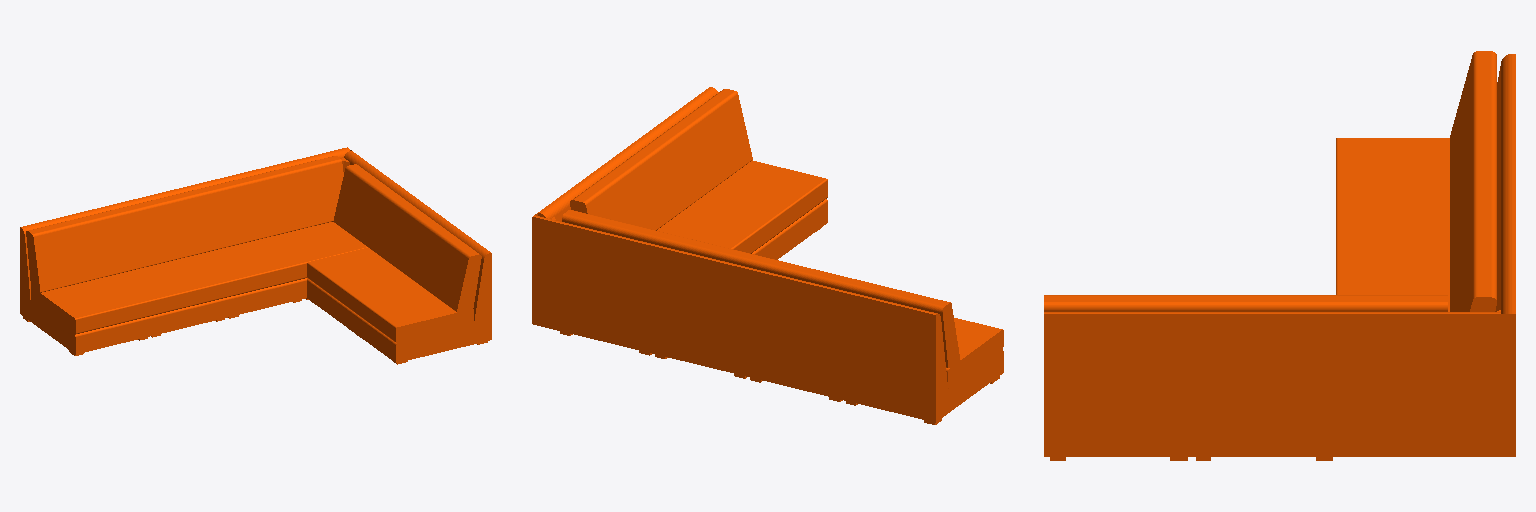
The robot description file, URDF, robot "Sectional_d8de84e7c0f8cbb19473aab1da686220":
<?xml version="1.0" ?>
<robot name="Sectional_d8de84e7c0f8cbb19473aab1da686220">
   <material name="obj_color">
      <color rgba="1.0 0.423529411765 0.0392156862745 1.0"/>
   </material>
   <link name="top">
      <inertial>
         <origin rpy="0.0118640140658816 0.02863657405941492 0.03676484304108316" xyz="-0.01288237876676118 -0.01645439042156386 -0.008031859566292331"/>
         <mass value="3.766885220948229"/>
         <inertia ixx="0.01498913541283348" ixy="0.006534629332822864" ixz="-0.0004536031005986858" iyy="0.02554368742440912" iyz="-0.0003232278985350678" izz="0.03673260832913709"/>
      </inertial>
      <visual>
         <origin rpy="0 0 0" xyz="0 0 0"/>
         <geometry>
            <mesh filename="top_watertight_tiny.stl" scale="1 1 1"/>
         </geometry>
         <material name="obj_color"/>
      </visual>
      <collision>
         <origin rpy="0 0 0" xyz="0 0 0"/>
         <geometry>
            <mesh filename="top_watertight_tiny.obj" scale="1 1 1"/>
         </geometry>
      </collision>
   </link>
   <link name="bottom">
      <inertial>
         <origin rpy="1.633333333199431e-08 1.633333333199431e-08 1.633333333362855e-08" xyz="0.3464080000000008 0.3464080000000008 0.3464080000000008"/>
         <mass value="0.0009800000000000017"/>
         <inertia ixx="1.633333333253906e-08" ixy="5.447480642029219e-19" ixz="5.447480642029219e-19" iyy="1.633333333253906e-08" iyz="5.447480642029219e-19" izz="1.633333333253906e-08"/>
      </inertial>
      <visual>
         <origin rpy="0 0 0" xyz="0 0 0"/>
         <geometry>
            <mesh filename="bottom_watertight_tiny.stl" scale="1 1 1"/>
         </geometry>
         <material name="obj_color"/>
      </visual>
   </link>
   <link name="world"/>
   <joint name="world_to_base" type="fixed">
      <origin xyz="0 0 0"/>
      <axis xyz="0 0 0"/>
      <parent link="world"/>
      <child link="bottom"/>
   </joint>
   <joint name="rotation" type="revolute">
      <origin xyz="0 0 0"/>
      <axis xyz="0 0 -1"/>
      <parent link="bottom"/>
      <child link="top"/>
      <dynamics damping="1.0" friction="1.0"/>
      <limit effort="0.1" velocity="0.1" lower="0" upper="0.001"/>
   </joint>
</robot>

--- What the picture shows (computed from the rendered views, not written in the file) ---
3 views of the same robot in one strip: view 1: azimuth 30°, elevation 25°; view 2: azimuth 150°, elevation 25°; view 3: azimuth 270°, elevation 25° (orthographic).
Robot: Sectional_d8de84e7c0f8cbb19473aab1da686220 — 3 links, 2 joints (1 revolute, 1 fixed); root link world; default pose: every joint at zero.
Visible links, largest first — view 1: top; view 2: top; view 3: top.
Link boxes in pixels (left/top/right/bottom): top: left=20, top=147, right=491, bottom=364; top: left=532, top=87, right=1003, bottom=424; top: left=1044, top=51, right=1515, bottom=460.
Bounding box of the posed robot: 0.2954 × 0.2257 × 0.0795 m (x, y, z).
1 mesh visuals loaded from 2 distinct referenced files (1 binary STL); not drawn: 1 (reference not matched to a file when rendering).
